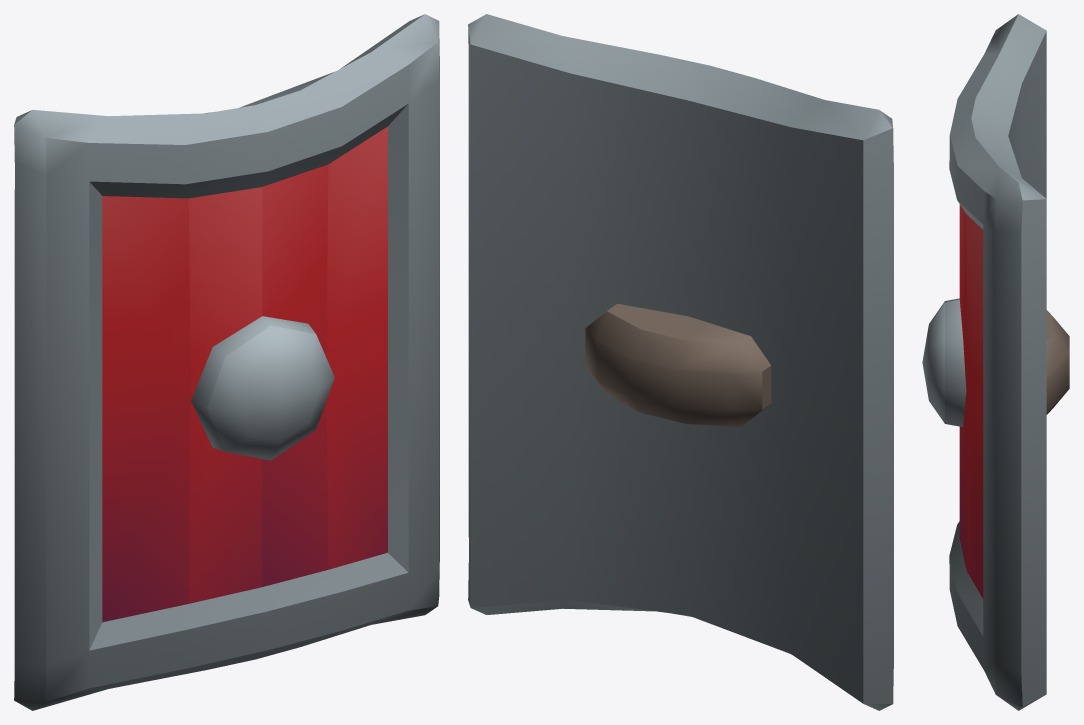
Rendered from shield_square_color.fbx.
3 views of the same model, side by side, from view 1: azimuth 30°, elevation 25°; view 2: azimuth 150°, elevation 25°; view 3: azimuth 270°, elevation 25° (orthographic). The views are drawn at different scales.
Parts seen in each view (by area): view 1: shield_square_color; view 2: shield_square_color; view 3: shield_square_color.
Part boxes in pixels (box(x1,y1,x2,y2)): shield_square_color: box(14, 14, 439, 710); shield_square_color: box(468, 14, 893, 710); shield_square_color: box(922, 14, 1069, 710).
Size of the model in its own units: 0.7675 by 1.04 by 0.2618.
